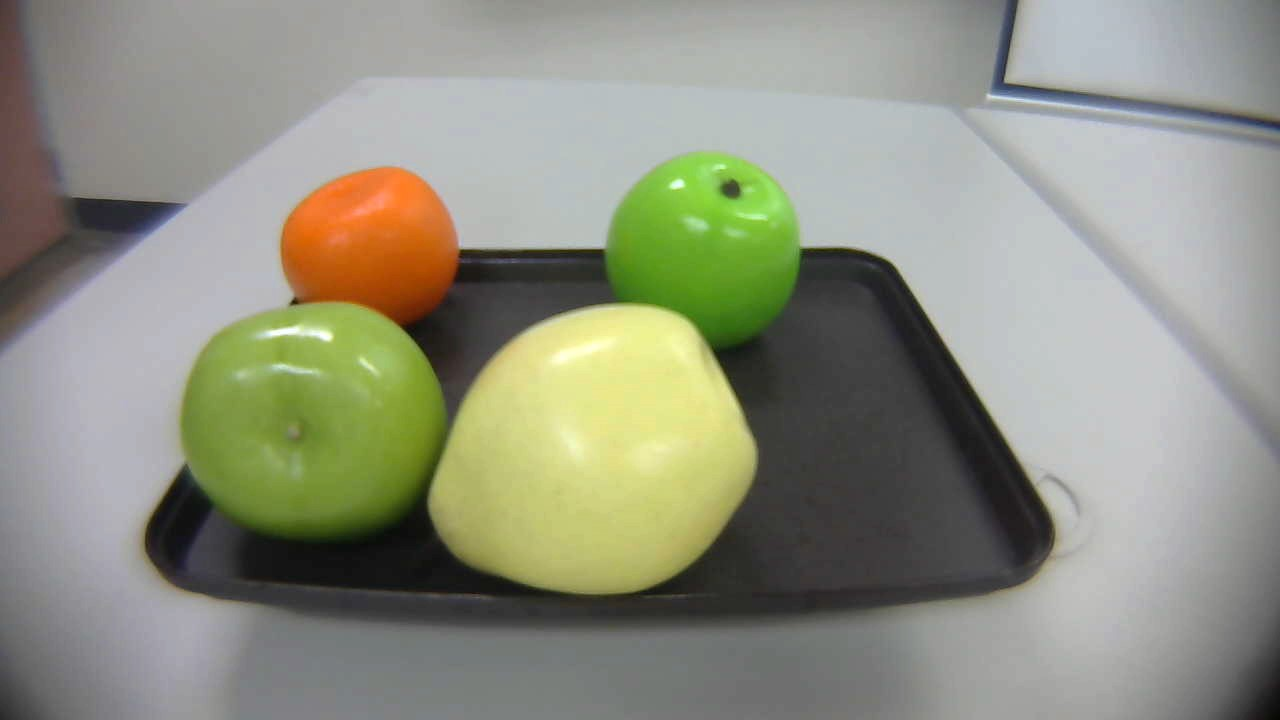green apple: (588, 136, 803, 346)
green pear: (163, 289, 453, 544)
orange: (267, 161, 472, 348)
western pear: (360, 288, 768, 604)
